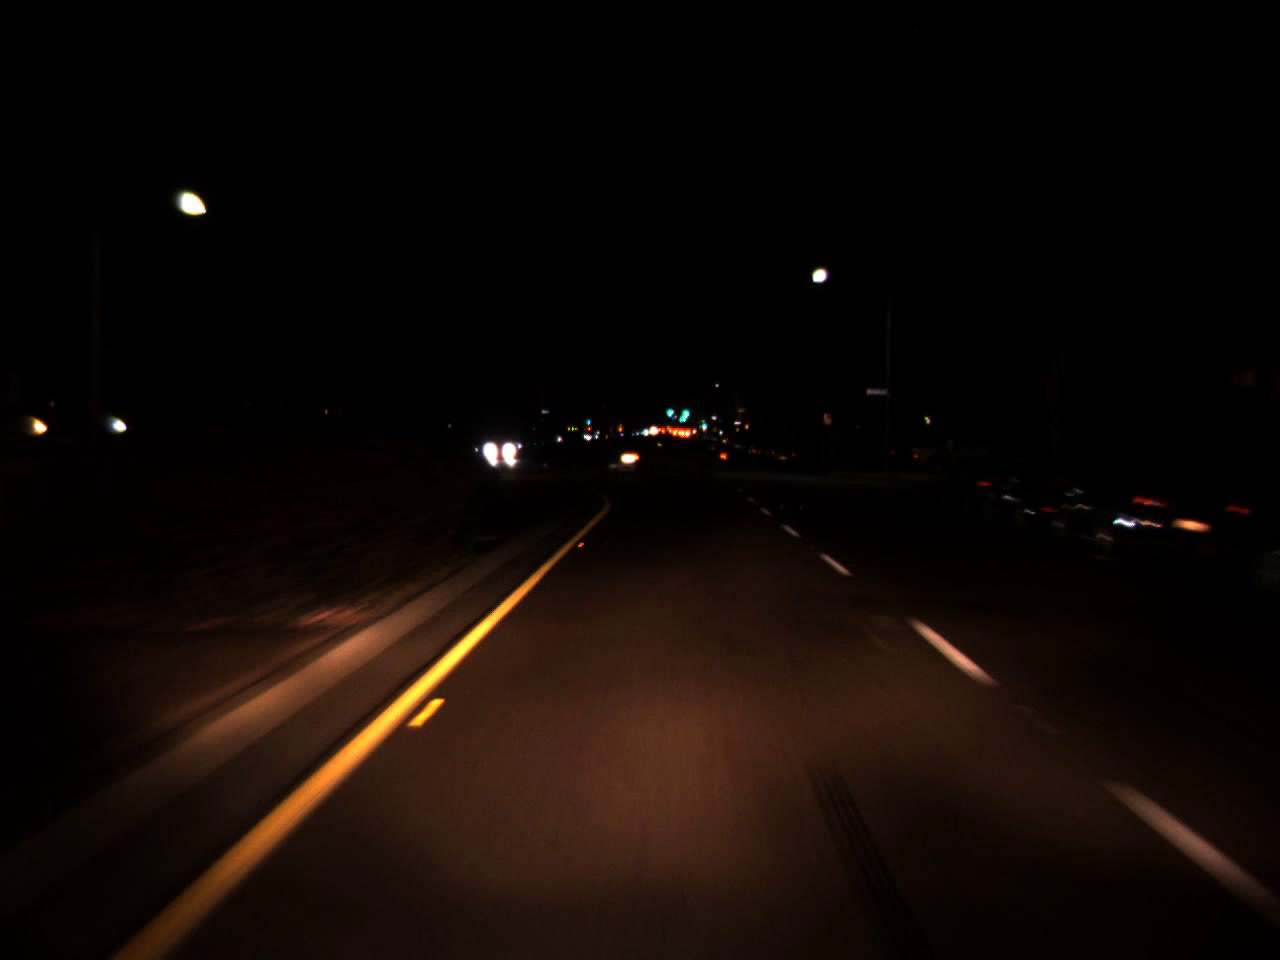go: (676, 399, 690, 419), (666, 401, 673, 419), (699, 418, 708, 430)
